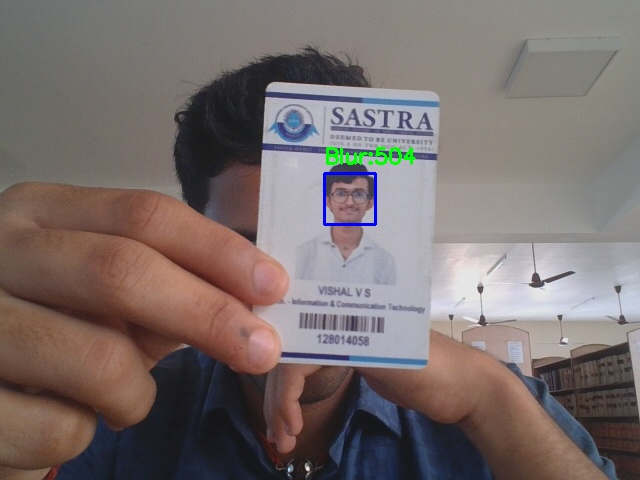fake: (324, 173, 375, 224)
